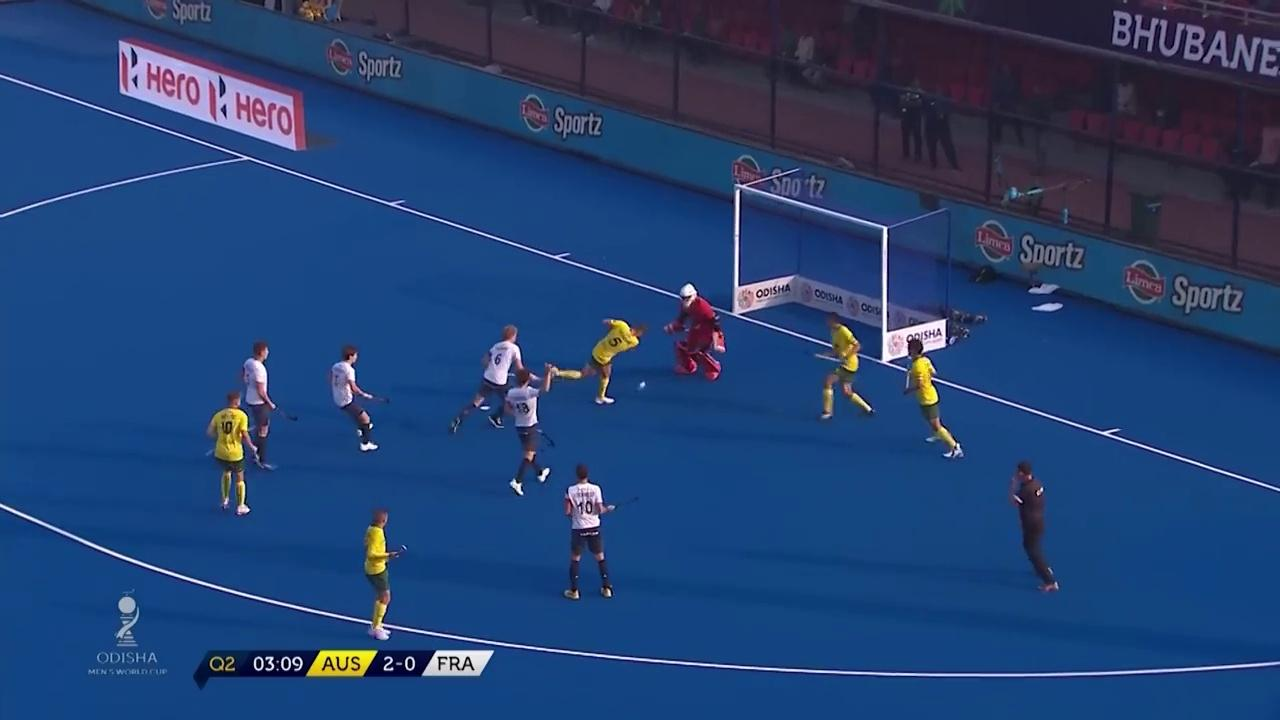ball: (635, 376, 653, 391)
